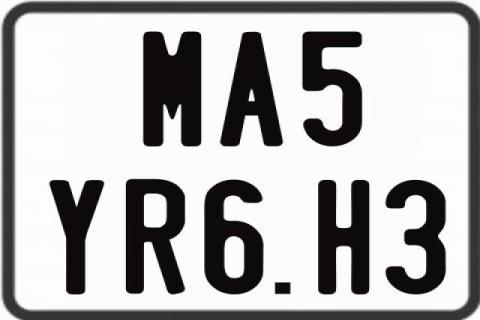0: (300, 30, 362, 146), (204, 179, 267, 293), (386, 180, 446, 296)
A: (220, 31, 288, 145)
H: (317, 180, 370, 298)
M: (140, 31, 199, 150)
R: (126, 177, 190, 295)
Y: (48, 179, 103, 295)
